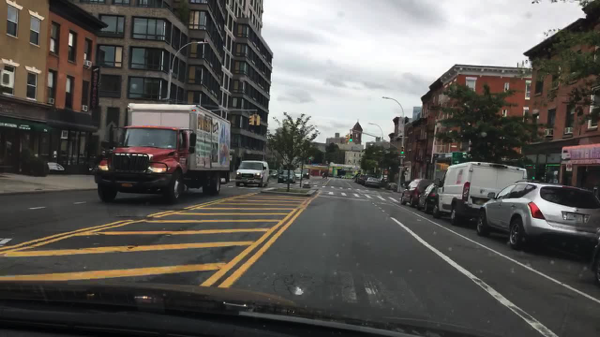car: (477, 179, 599, 249), (432, 160, 527, 226), (399, 177, 435, 207), (234, 160, 271, 189), (416, 183, 440, 213), (277, 169, 296, 185), (592, 242, 598, 287), (364, 176, 381, 189), (267, 169, 279, 179), (294, 169, 302, 180), (359, 174, 367, 184), (301, 171, 310, 179), (355, 173, 361, 181), (343, 175, 352, 179)
traffic light: (435, 162, 447, 172), (255, 115, 261, 128), (248, 114, 254, 125), (344, 133, 349, 142), (349, 132, 353, 143), (403, 166, 409, 172), (401, 145, 404, 155)
traffic sign: (396, 155, 405, 160)
truck: (91, 102, 232, 204)
